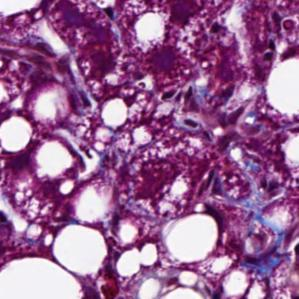inflammation: (158, 84, 197, 104), (209, 17, 235, 42), (102, 207, 125, 232), (177, 114, 200, 131)
